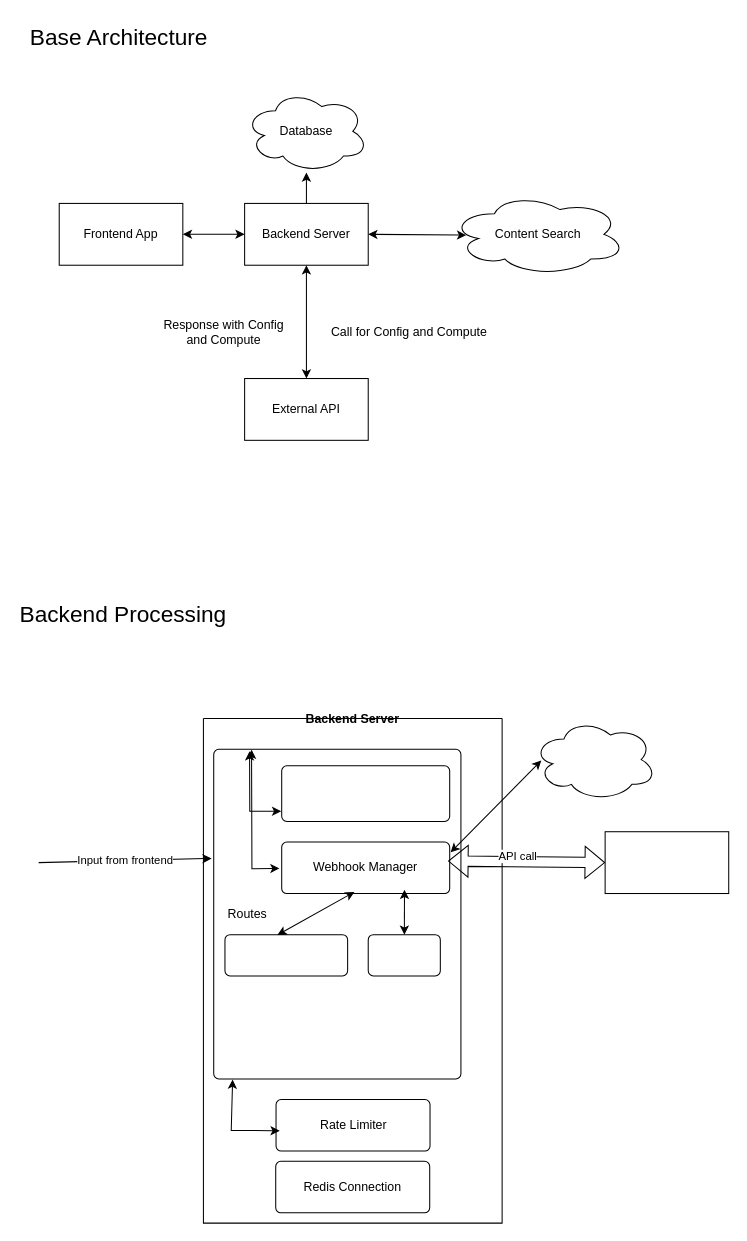
Some shapes in this 747 by 1241 pixel diagram are drawn without their labels. The centre of each missing label's shape, as x and y in pixels:
ASR-NMT-TTS: point (666, 862)
Auth: point (403, 955)
ElasticSearch + LlamaIndex: point (594, 759)
Filehandler: point (365, 793)
Generative Processor: point (286, 955)
